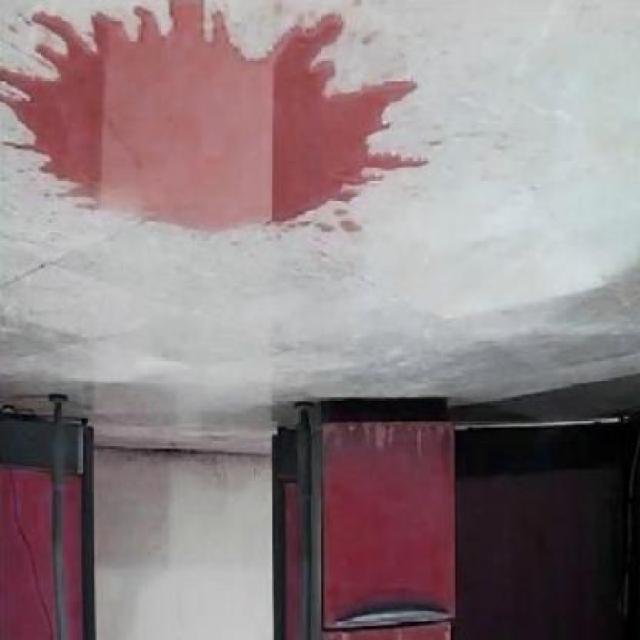spillage: (3, 0, 427, 230)
